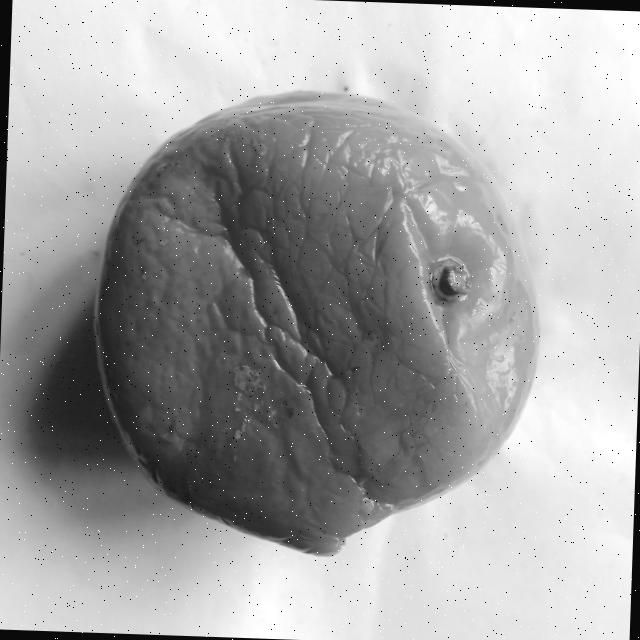Rotten: (86, 84, 550, 565)
